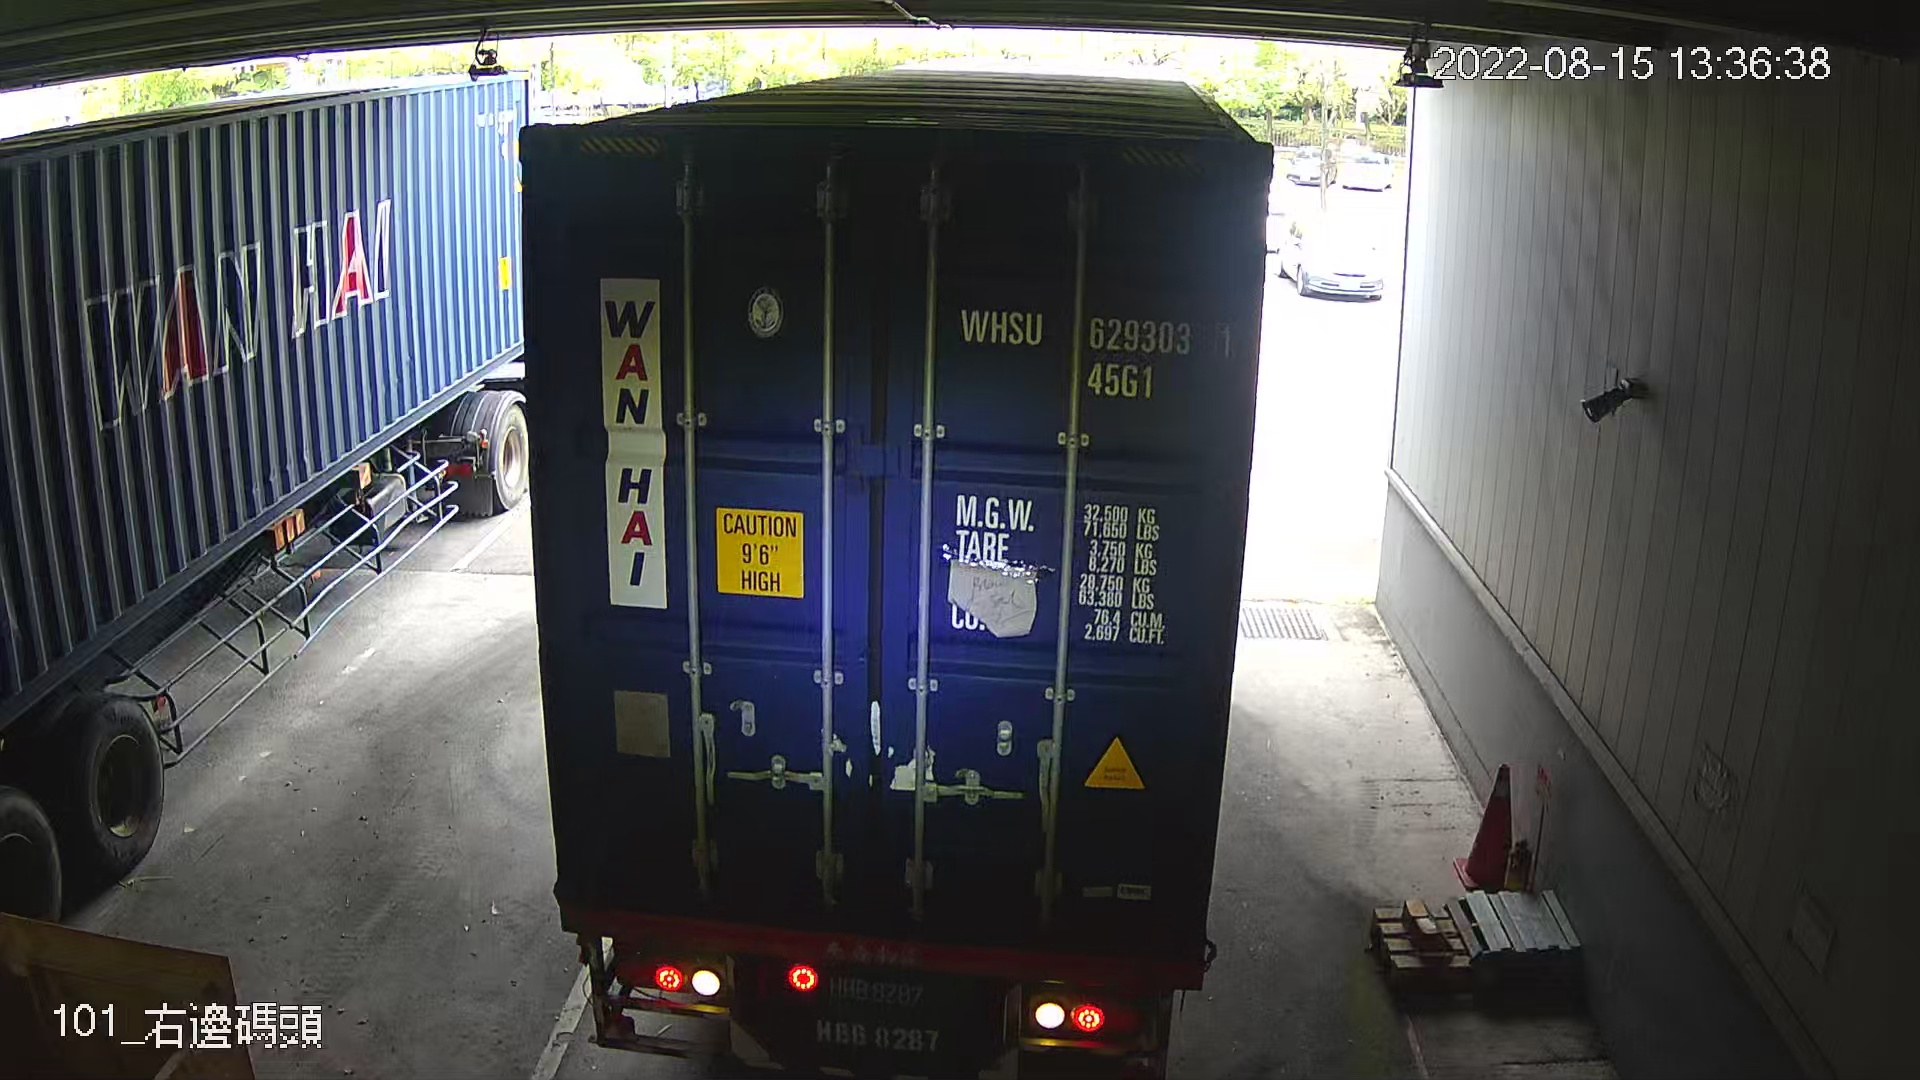container: (944, 289, 1245, 407)
